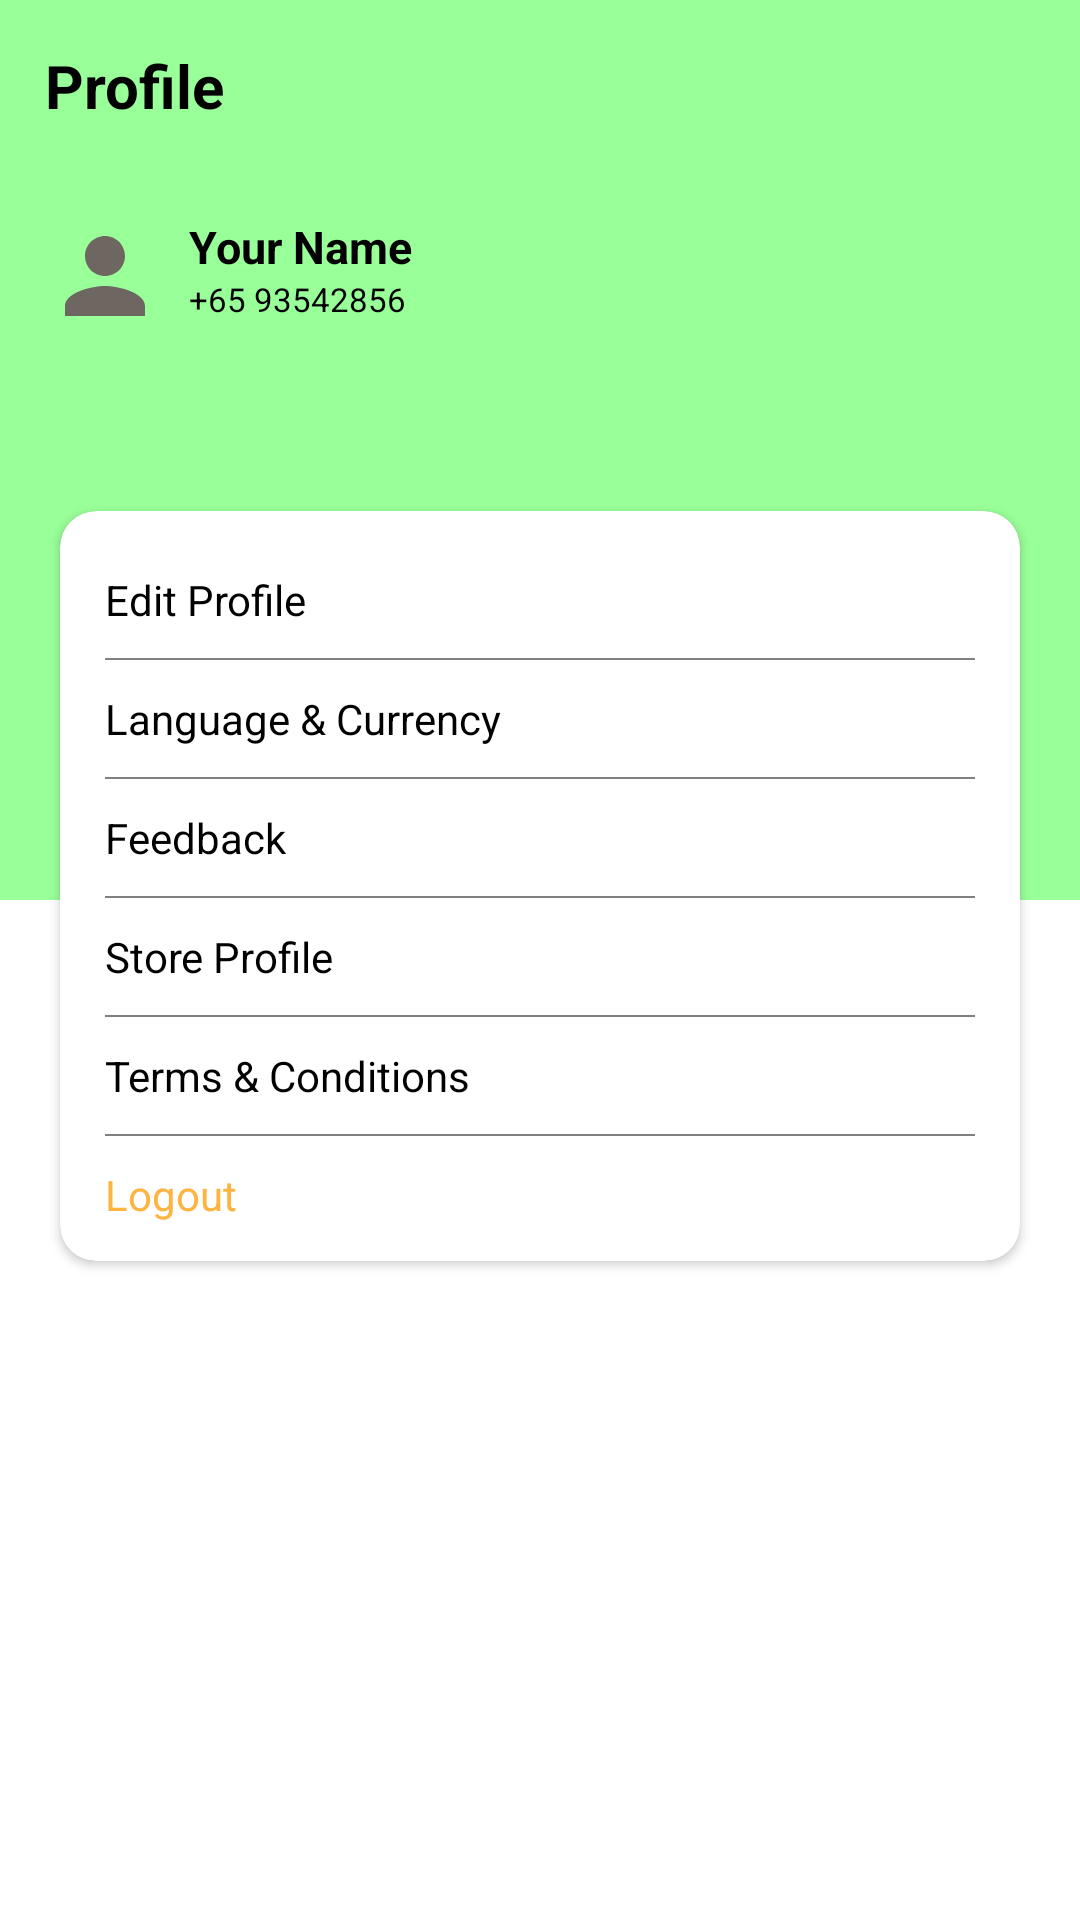

Icon bounding boxes for this 1080px x 1920px phone screenshot, format (x1, y1, x2, y2):
person: (65, 236, 145, 316)
